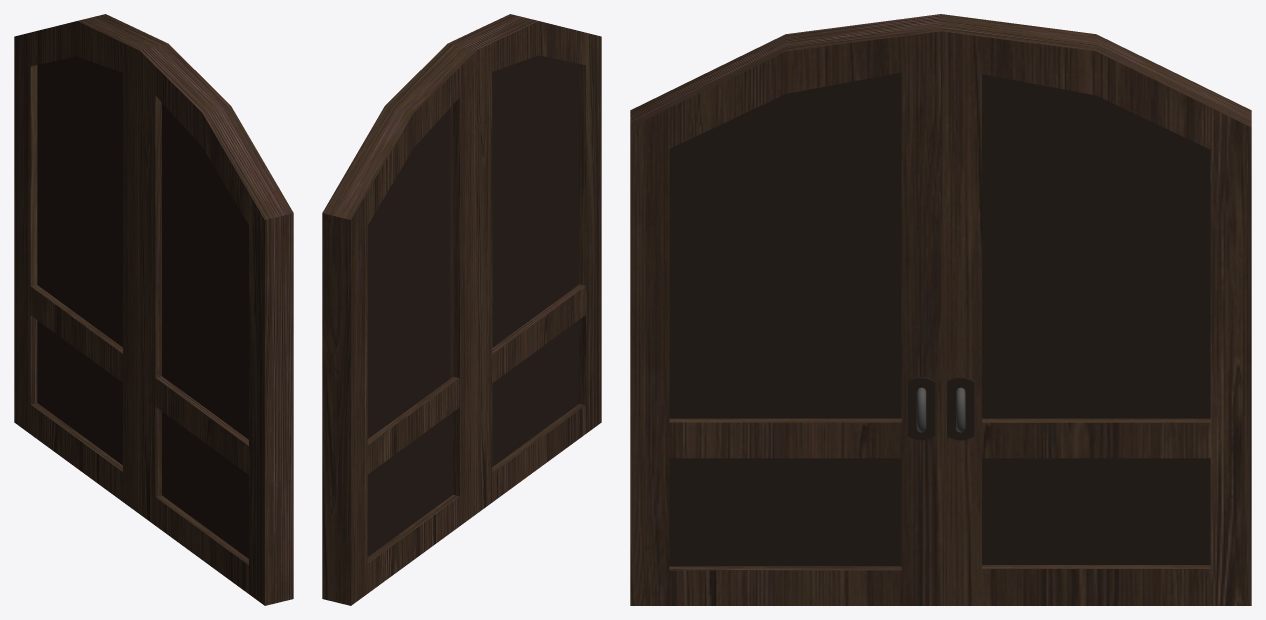
File: F_Door_01.fbx
3 renders of one model, left to right at view 1: azimuth 30°, elevation 25°; view 2: azimuth 150°, elevation 25°; view 3: azimuth 270°, elevation 25°, orthographic. The views are drawn at different scales.
Visible parts, largest first — view 1: F_Door_01; view 2: F_Door_01; view 3: F_Door_01.
Boxes of the visible parts, <box> form: F_Door_01: <box>14,14,293,605</box>; F_Door_01: <box>322,14,601,605</box>; F_Door_01: <box>630,14,1251,605</box>.
Bounding box in the file's own units: 25.5 × 256 × 251.
